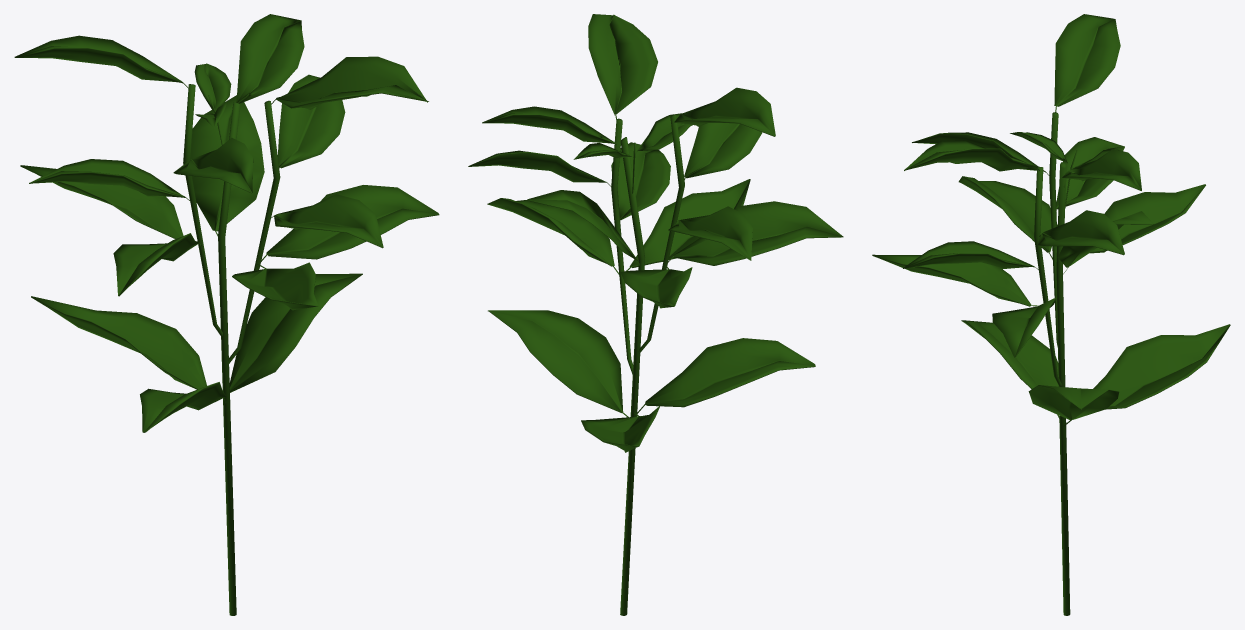
Rendered from PimentaBroto.fbx.
3 views of the same model, side by side, from view 1: azimuth 30°, elevation 25°; view 2: azimuth 150°, elevation 25°; view 3: azimuth 270°, elevation 25° (orthographic). The views are drawn at different scales.
Parts seen in each view (by area): view 1: PimentaBroto; view 2: PimentaBroto; view 3: PimentaBroto.
Part boxes in pixels (x1=…): PimentaBroto: x1=14, y1=14, x2=439, y2=615; PimentaBroto: x1=468, y1=14, x2=843, y2=615; PimentaBroto: x1=872, y1=14, x2=1230, y2=615.
Size of the model in its own units: 8.41 by 13.15 by 8.08.
